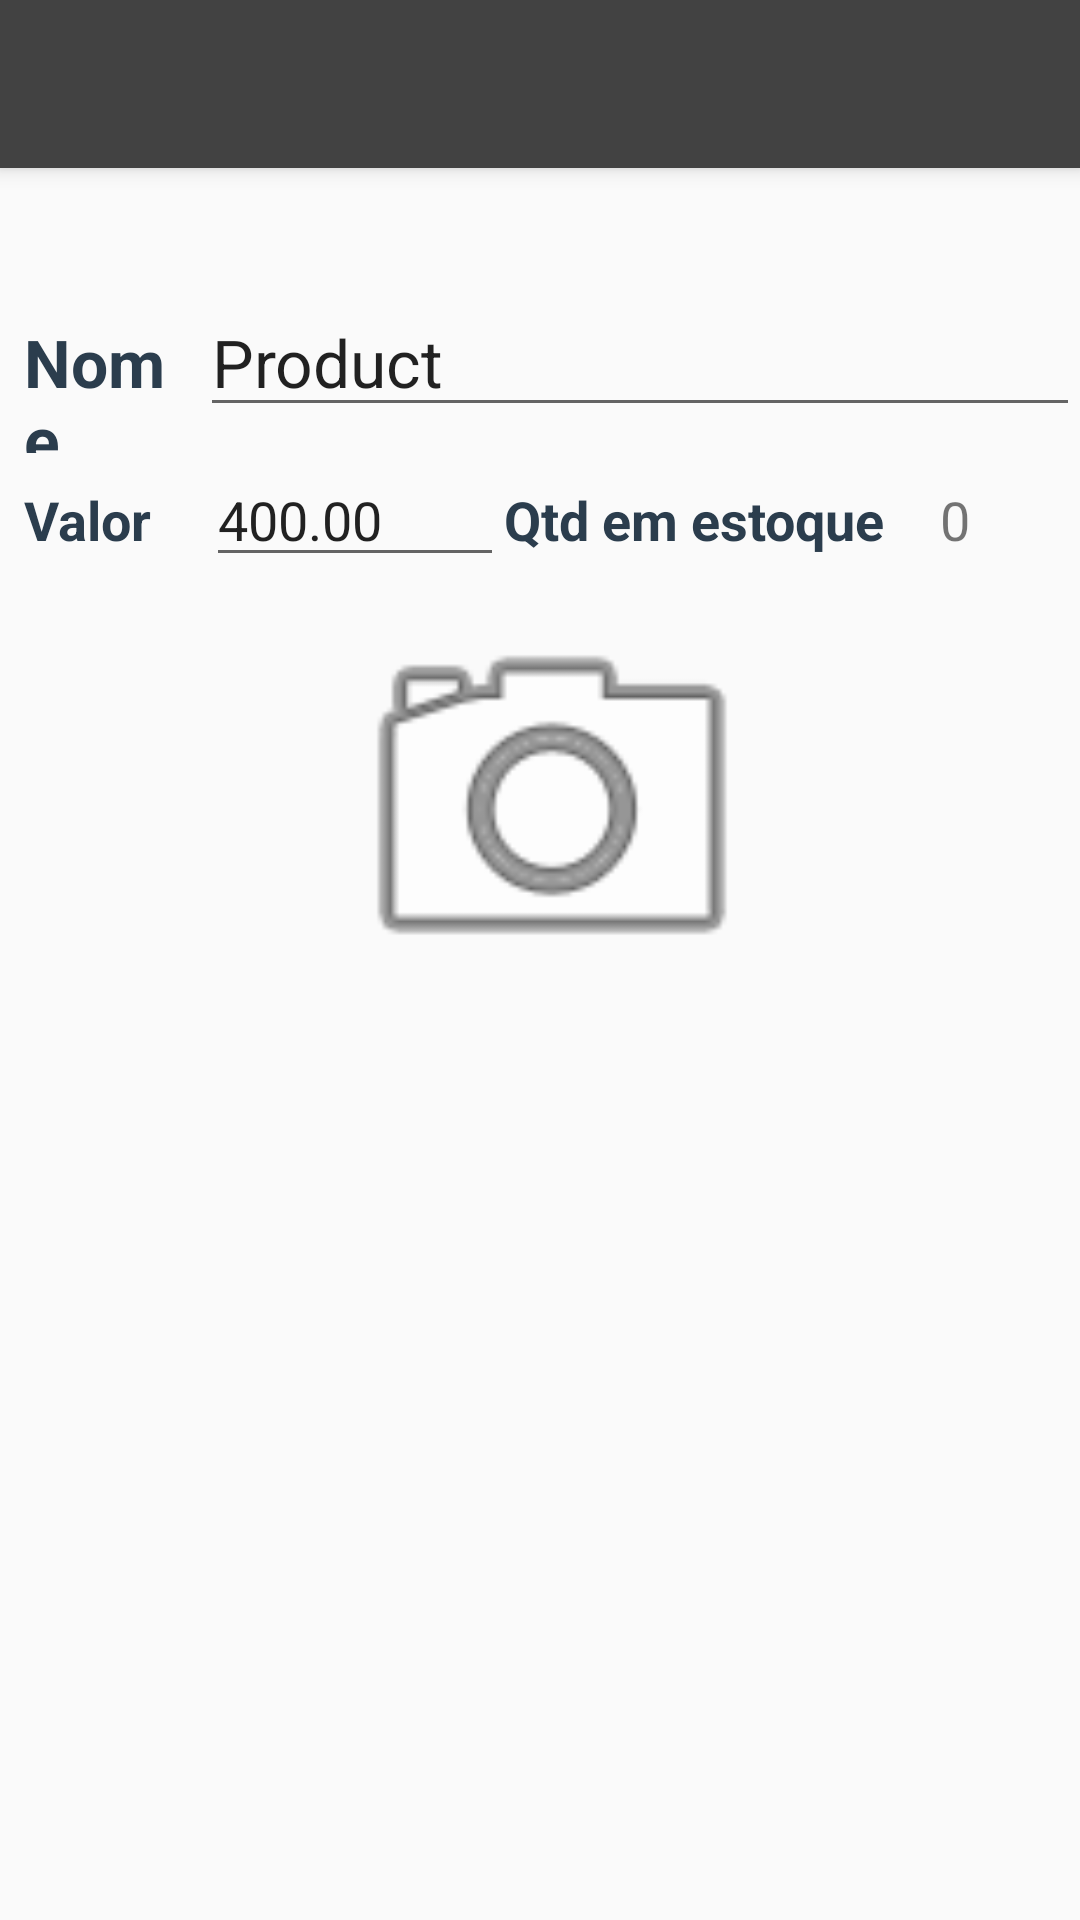

Point at icon controls on the screen. Image size 1080*1920, points as (x,y).
camera: (552,795)
